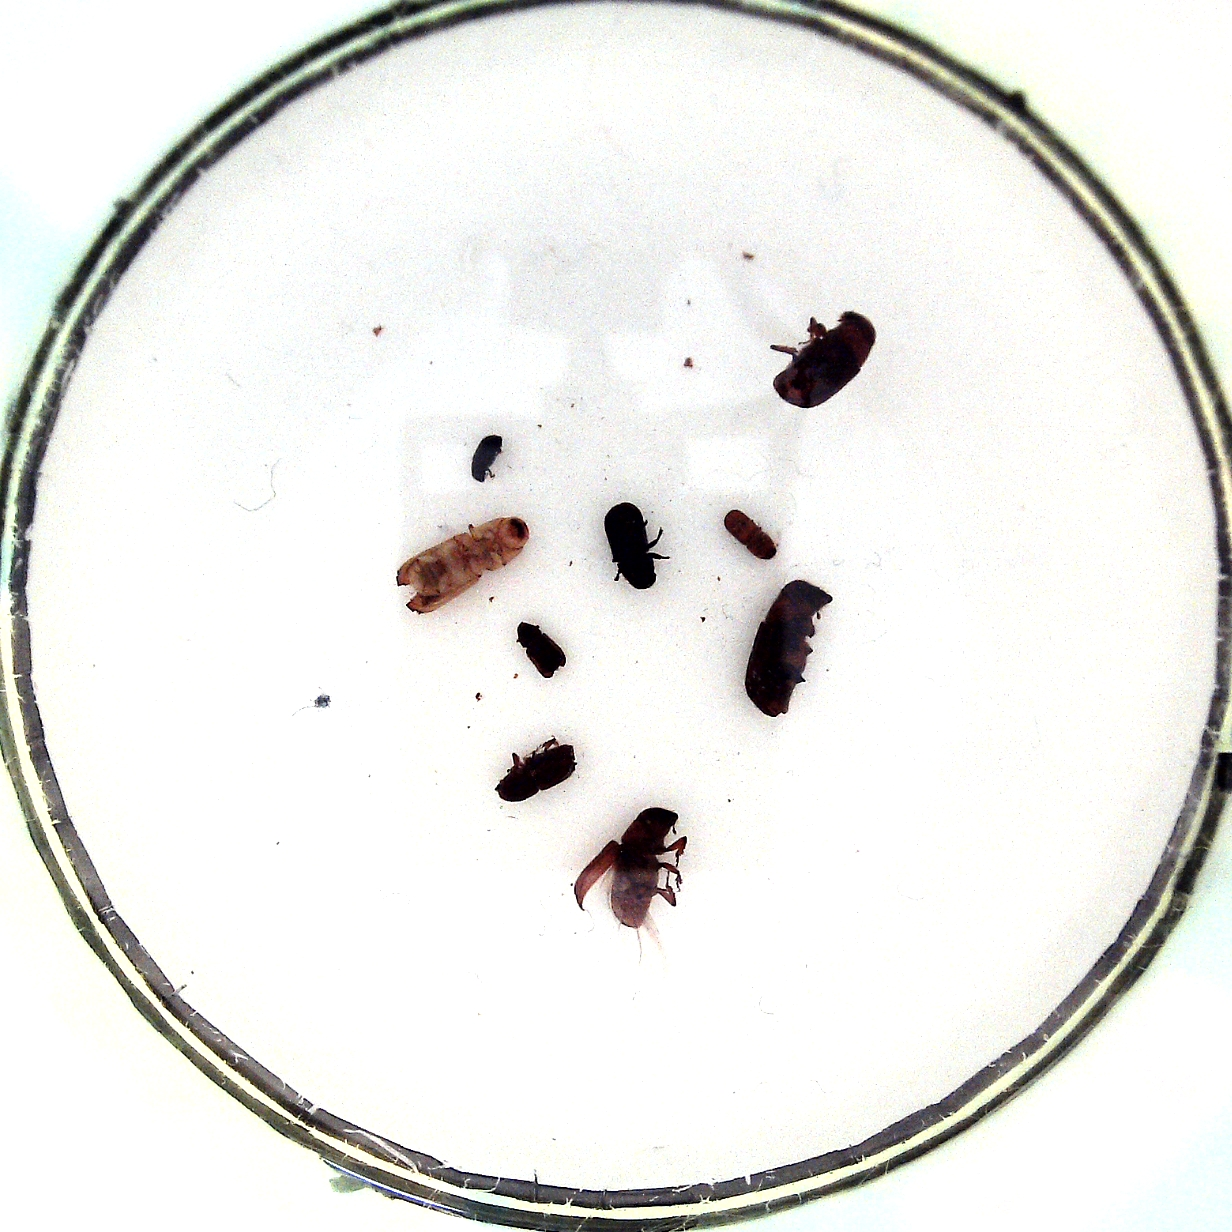Boerner: (396, 516, 530, 613)
Leconte: (743, 579, 834, 716), (772, 313, 877, 407), (610, 807, 679, 930)
acuminatus: (470, 434, 502, 482)
armandi: (604, 501, 657, 588)
coleoptera: (516, 621, 567, 679), (724, 509, 778, 561)
linnaeus: (495, 743, 577, 801)
